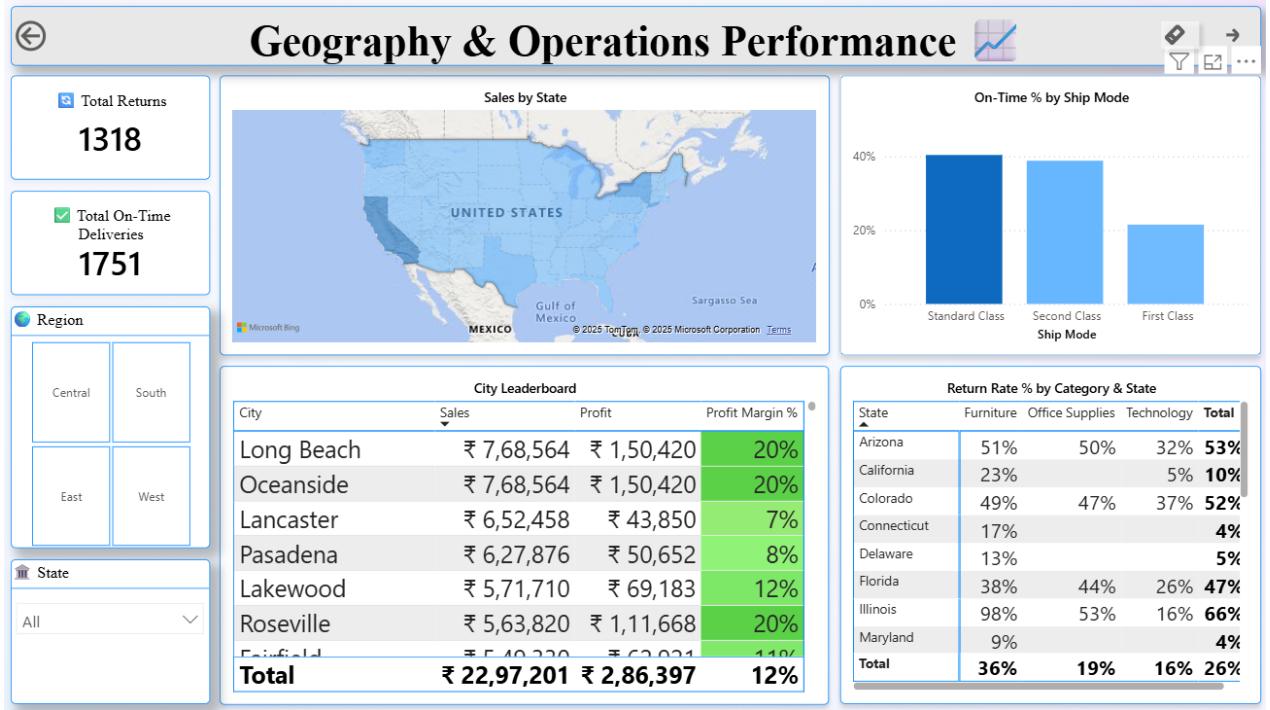

What the dashboard file says about the page in this screenshot:
{"tool":"powerbi","page":{"name":"Geography & Operations Performance","canvas":[1280,720],"ordinal":2},"visuals":[{"type":"filledMap","fields":{"Category":["Geography.State"]},"box":[220.1,75.8,614,281.3],"z":0},{"type":"tableEx","title":"City Leaderboard","fields":{"Values":["Geography.City","Measures Table.Sales","Measures Table.Profit","Measures Table.Profit Margin %"]},"box":[220.1,368.1,613.9,341.2],"z":1000},{"type":"shape","title":"Geography & Operations Performance 📈","box":[9.8,6.1,1259.5,59.9],"z":2000},{"type":"card","title":"✅ Total On-Time Deliveries","fields":{"Values":["Measures Table.On-Time Orders"]},"box":[9.8,191.7,200.5,105.2],"z":3000},{"type":"card","title":"🔄 Total Returns","fields":{"Values":["Measures Table.Returned Orders"]},"box":[9.8,75.5,200.5,105.2],"z":4000},{"type":"slicer","title":"🌍 Region","fields":{"Values":["Geography.Region"]},"box":[9.8,307.8,200.5,243.3],"z":5000},{"type":"slicer","title":"🏛️ State","fields":{"Values":["Geography.State"]},"box":[9.8,562.5,200.5,145.5],"z":6000},{"type":"clusteredColumnChart","fields":{"Category":["Orders.Ship Mode"],"Y":["Measures Table.On-Time %"]},"box":[845,75.8,424.3,281.3],"z":7000},{"type":"actionButton","box":[9.8,15.9,100.3,40.4],"z":8000},{"type":"pivotTable","title":"Return Rate % by Category & State","fields":{"Rows":["Orders.State"],"Values":["Measures Table.Return Rate %"],"Columns":["Orders.Category"]},"box":[845,368.1,424.3,339.9],"z":9000},{"type":"actionButton","box":[1159.2,12.2,56.3,48.9],"z":10000},{"type":"actionButton","box":[1215.5,11,55,48.9],"z":11000}]}

Visuals, with their boxes on the page's 1280x720 design canvas (x1, y1, x2, y2). These are canvas units, not pixel positions in the 1270x710 screenshot, which may show the page scaled, cropped or inside an application window:
filledMap - Geography.State: bbox(220, 76, 834, 357)
"City Leaderboard" tableEx: bbox(220, 368, 834, 709)
"Geography & Operations Performance 📈" shape: bbox(10, 6, 1269, 66)
"✅ Total On-Time Deliveries" card: bbox(10, 192, 210, 297)
"🔄 Total Returns" card: bbox(10, 76, 210, 181)
"🌍 Region" slicer: bbox(10, 308, 210, 551)
"🏛️ State" slicer: bbox(10, 562, 210, 708)
clusteredColumnChart - Orders.Ship Mode x Measures Table.On-Time %: bbox(845, 76, 1269, 357)
actionButton: bbox(10, 16, 110, 56)
"Return Rate % by Category & State" pivotTable: bbox(845, 368, 1269, 708)
actionButton: bbox(1159, 12, 1216, 61)
actionButton: bbox(1216, 11, 1270, 60)
